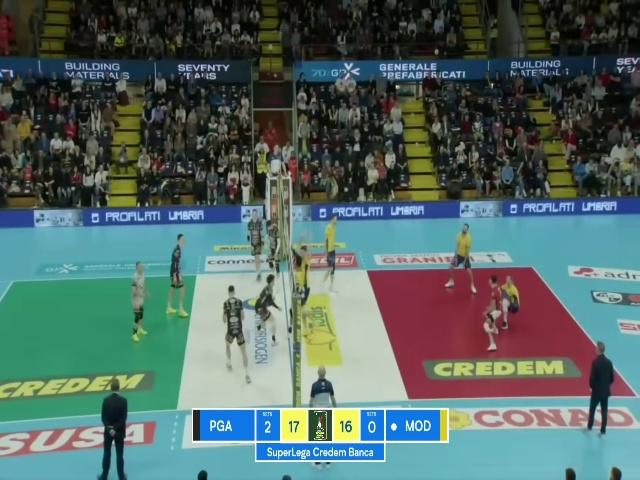volleyball court: (0, 267, 636, 424)
